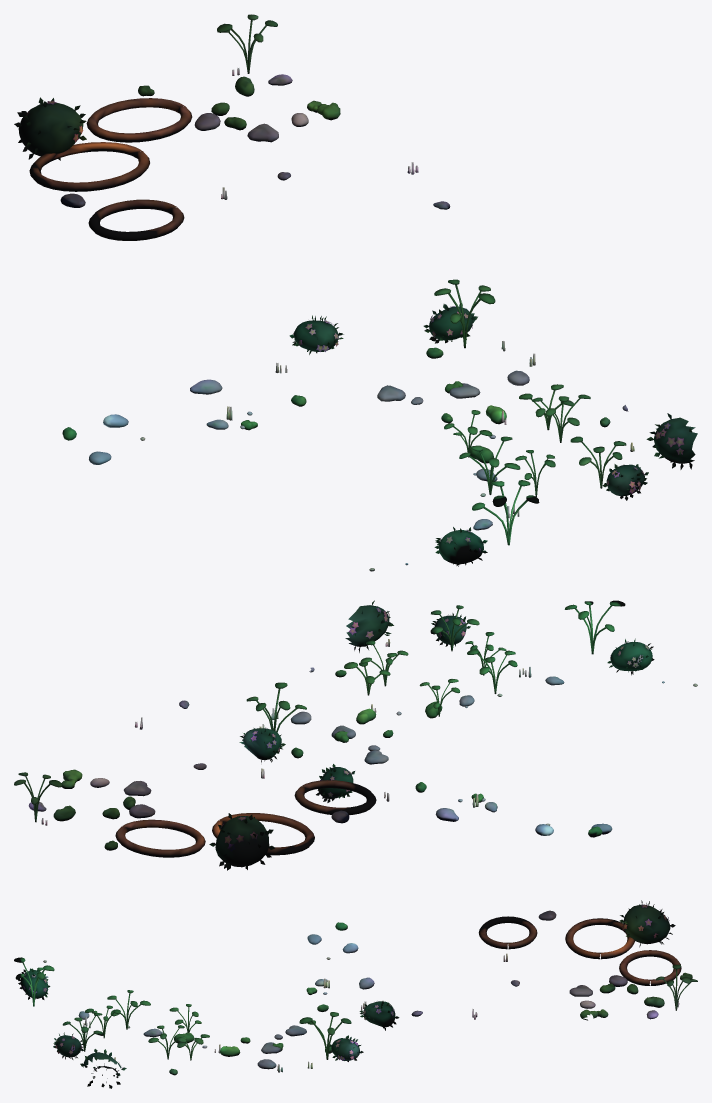
The model's file is prp_cave_flora_a.glb.
3 views of the same model, one above another, from view 1: azimuth 30°, elevation 25°; view 2: azimuth 150°, elevation 25°; view 3: azimuth 270°, elevation 25° (orthographic). The views are drawn at different scales.
Parts seen in each view (by area): view 1: INST_prp_cave_flora_a_flora; view 2: INST_prp_cave_flora_a_flora; view 3: INST_prp_cave_flora_a_flora.
Boxes of the visible parts, x1=… form: INST_prp_cave_flora_a_flora: x1=14, y1=14, x2=697, y2=571; INST_prp_cave_flora_a_flora: x1=14, y1=600, x2=697, y2=870; INST_prp_cave_flora_a_flora: x1=14, y1=900, x2=697, y2=1088.
Bounding box in the file's own units: 19.3 × 6.29 × 35.59.
